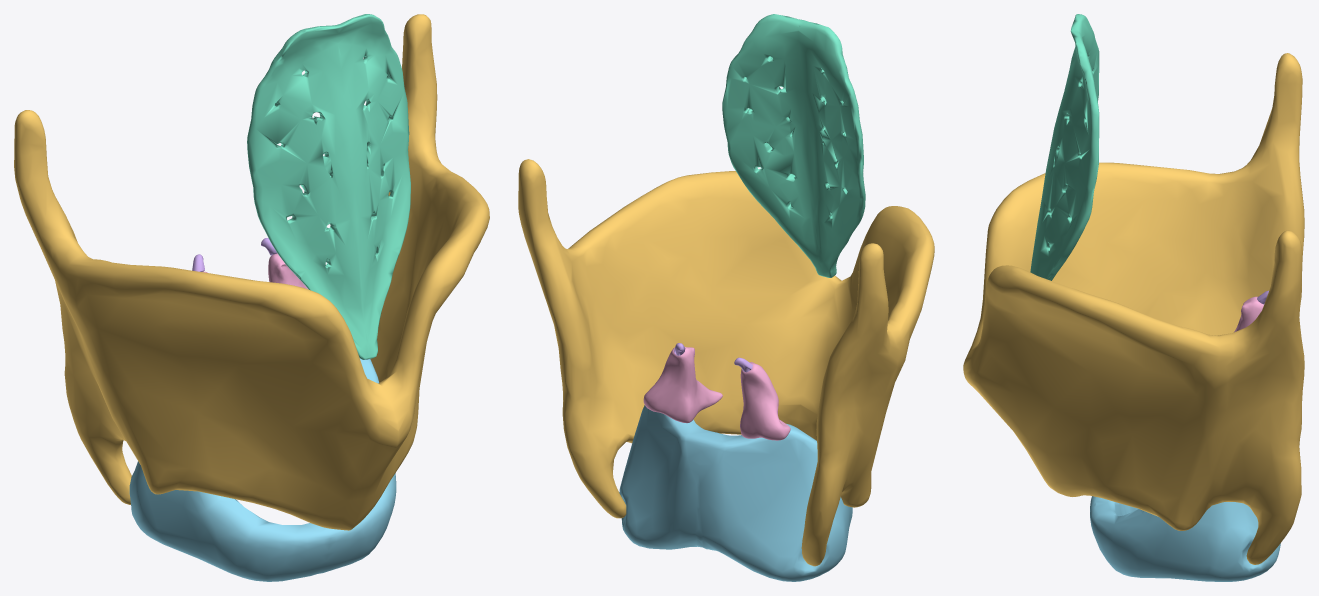
The model's file is larynx.glb.
3 renders of one model, left to right at view 1: azimuth 30°, elevation 25°; view 2: azimuth 150°, elevation 25°; view 3: azimuth 270°, elevation 25°, orthographic. The views are drawn at different scales.
Parts seen in each view (by area): view 1: Thyroid cartilage.001, Epiglottis.001, Cricoid cartilage.001, Arytenoid cartilage.001; view 2: Thyroid cartilage.001, Epiglottis.001, Cricoid cartilage.001, Arytenoid cartilage.001, Arytenoid cartilage; view 3: Thyroid cartilage.001, Cricoid cartilage.001, Epiglottis.001, Arytenoid cartilage.
Part boxes in pixels (x1=…): Thyroid cartilage.001: x1=14, y1=14, x2=489, y2=530; Epiglottis.001: x1=247, y1=14, x2=410, y2=359; Cricoid cartilage.001: x1=129, y1=358, x2=396, y2=581; Arytenoid cartilage.001: x1=268, y1=253, x2=308, y2=289; Thyroid cartilage.001: x1=518, y1=159, x2=934, y2=566; Epiglottis.001: x1=722, y1=14, x2=865, y2=277; Cricoid cartilage.001: x1=619, y1=405, x2=852, y2=581; Arytenoid cartilage.001: x1=643, y1=347, x2=722, y2=423; Arytenoid cartilage: x1=740, y1=362, x2=790, y2=440; Thyroid cartilage.001: x1=963, y1=53, x2=1304, y2=564; Cricoid cartilage.001: x1=1090, y1=496, x2=1280, y2=581; Epiglottis.001: x1=1030, y1=14, x2=1099, y2=280; Arytenoid cartilage: x1=1234, y1=296, x2=1263, y2=332.
Size of the model in its own units: 2 by 2.6 by 1.53.
